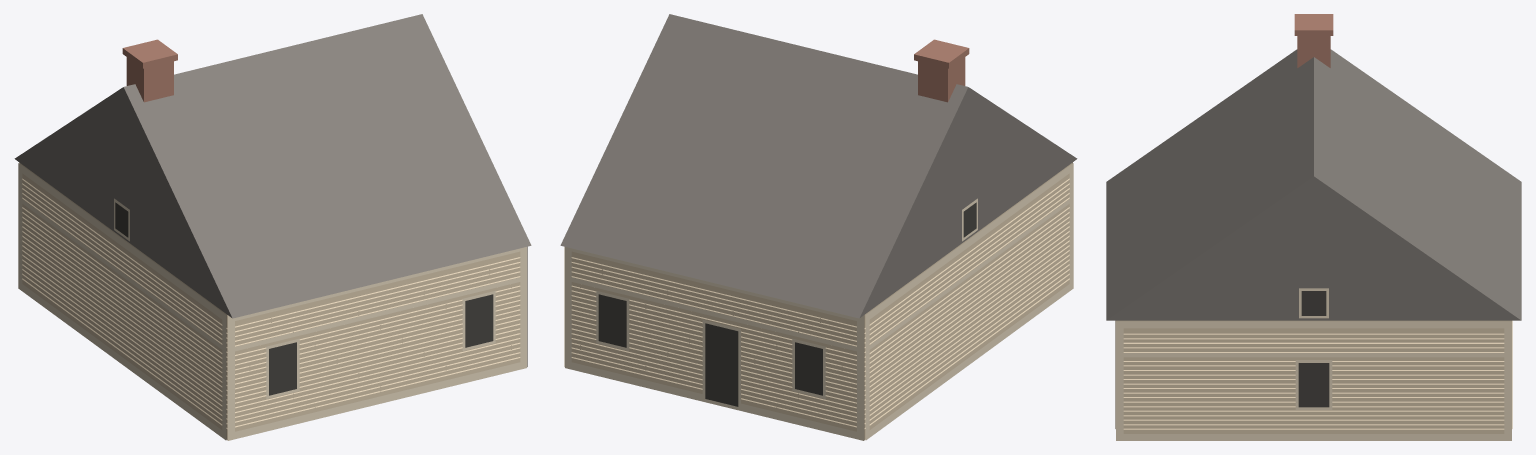
File: recon_1835_blk_randolph_wells_h1_02__inferred_1835.glb
3 renders of one model, left to right at view 1: azimuth 30°, elevation 25°; view 2: azimuth 150°, elevation 25°; view 3: azimuth 270°, elevation 25°, orthographic. The views are drawn at different scales.
Visible parts, largest first — view 1: recon_1835_blk_randolph_wells_h1_02__inferred_1835; view 2: recon_1835_blk_randolph_wells_h1_02__inferred_1835; view 3: recon_1835_blk_randolph_wells_h1_02__inferred_1835.
Boxes of the visible parts, x1,y1,x2,y2 form: recon_1835_blk_randolph_wells_h1_02__inferred_1835: [14, 14, 531, 440]; recon_1835_blk_randolph_wells_h1_02__inferred_1835: [560, 14, 1077, 440]; recon_1835_blk_randolph_wells_h1_02__inferred_1835: [1106, 14, 1521, 440].
Size of the model in its own units: 8.45 by 8.19 by 10.57.
